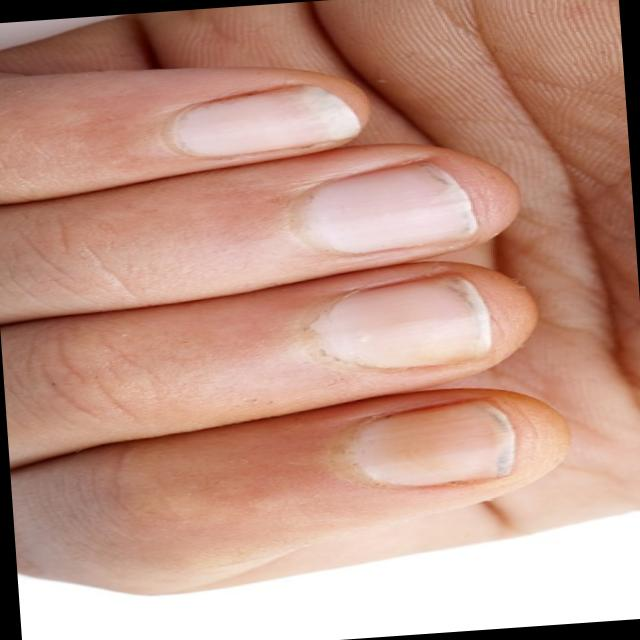Nail: (309, 273, 492, 367), (294, 161, 477, 254), (348, 399, 515, 485), (175, 85, 357, 156)
